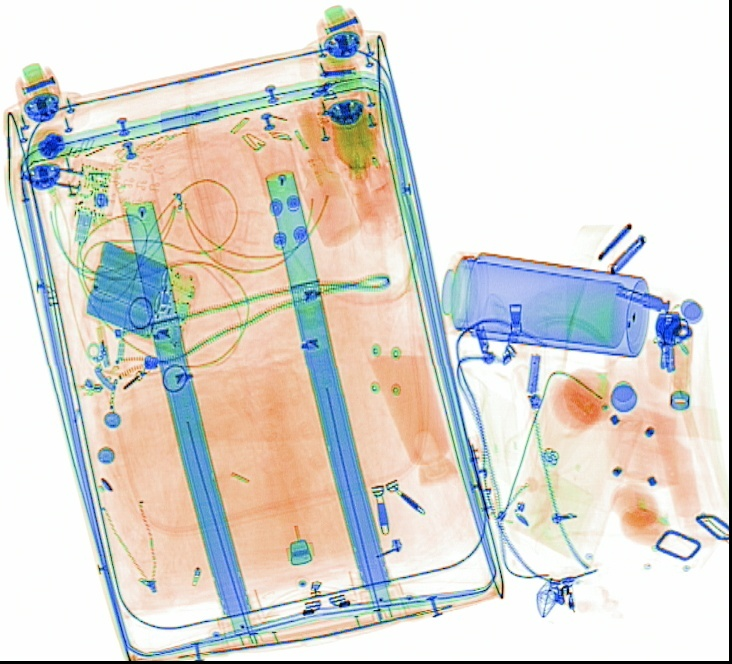powerbank: (81, 237, 199, 350)
